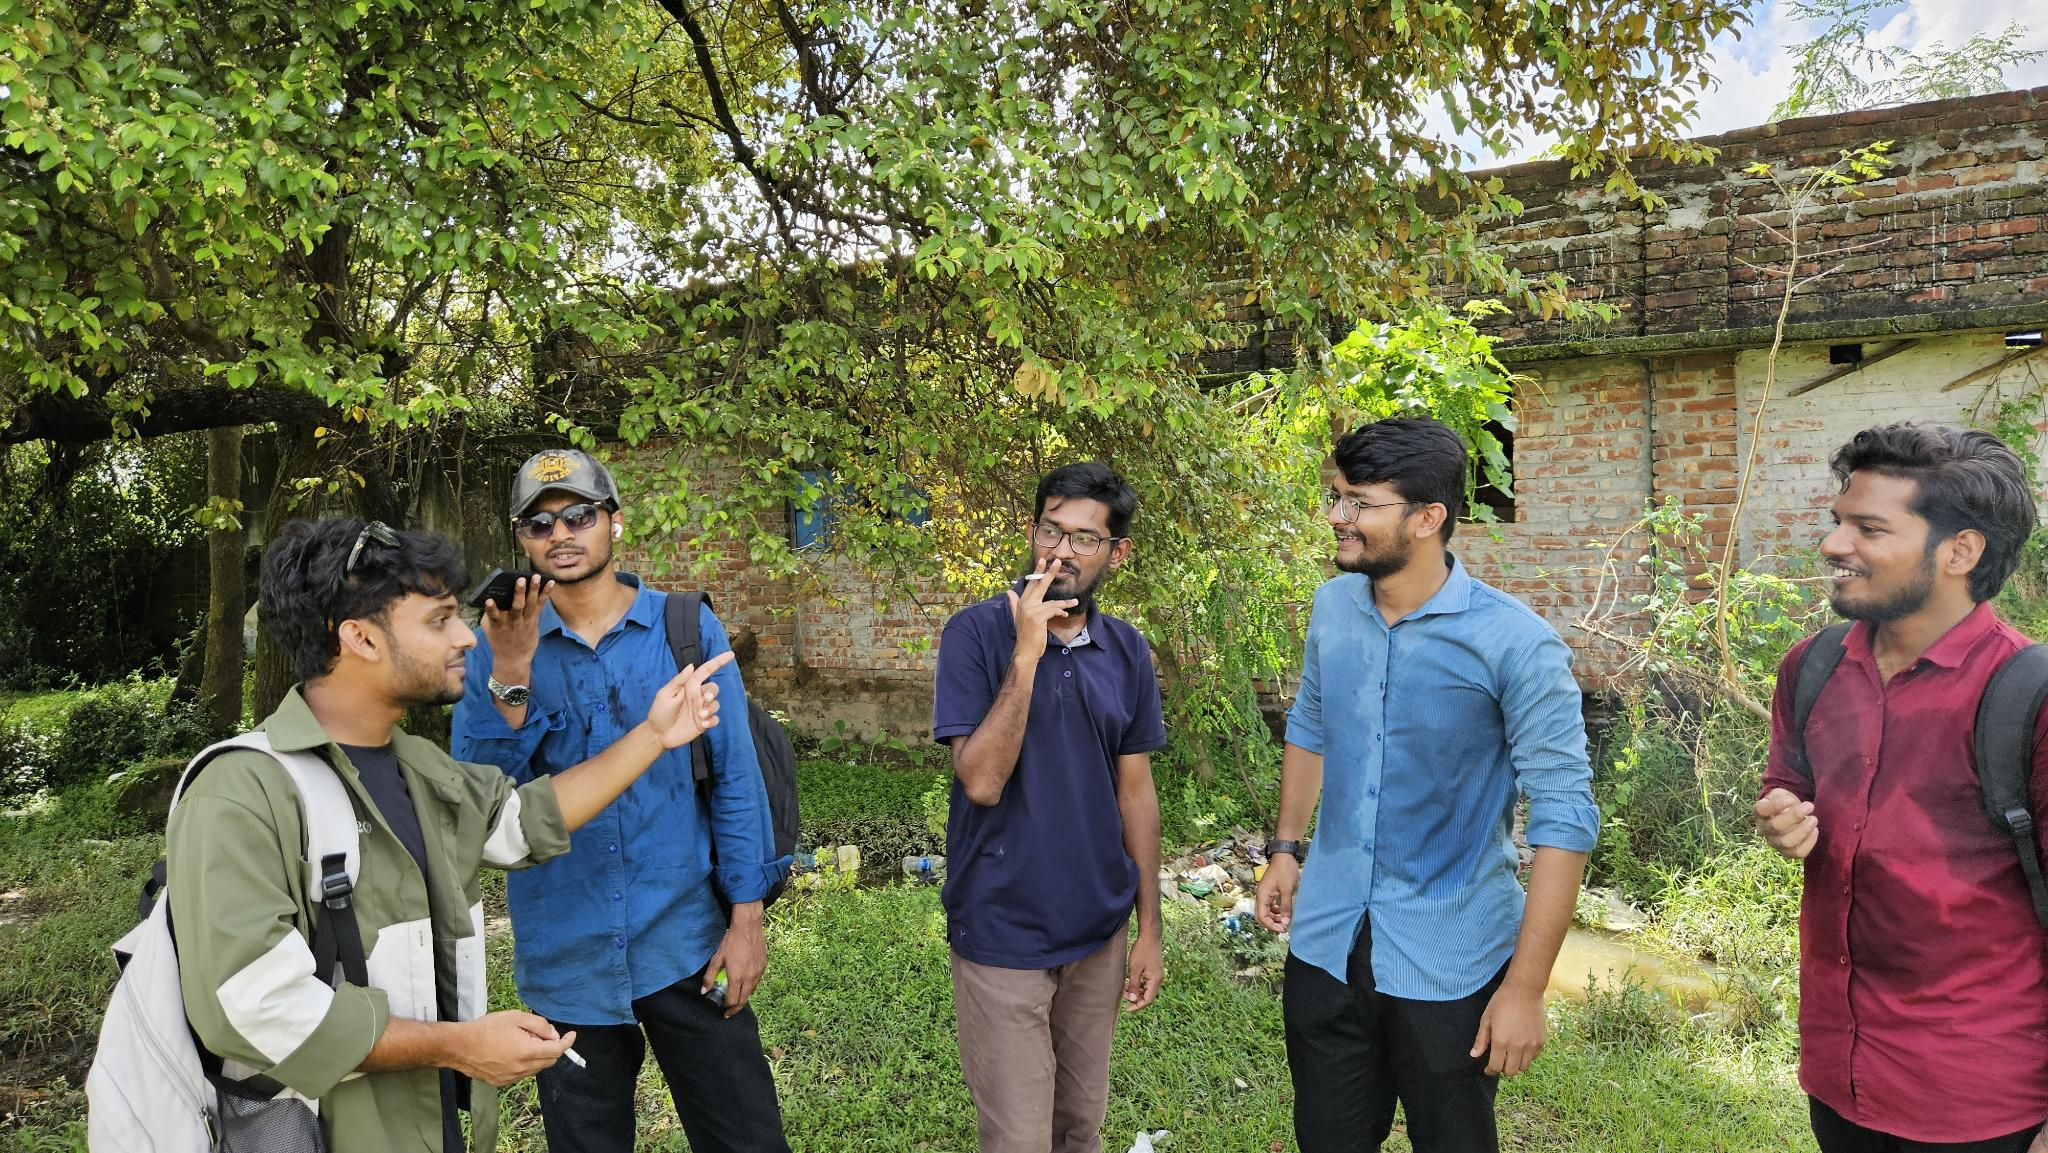cigarette: (561, 1046, 589, 1070), (1023, 569, 1048, 582)
nonSmoker: (1250, 418, 1596, 1153), (453, 450, 806, 1153), (1755, 420, 2048, 1153)
smoker: (87, 524, 737, 1153), (935, 461, 1167, 1153)
